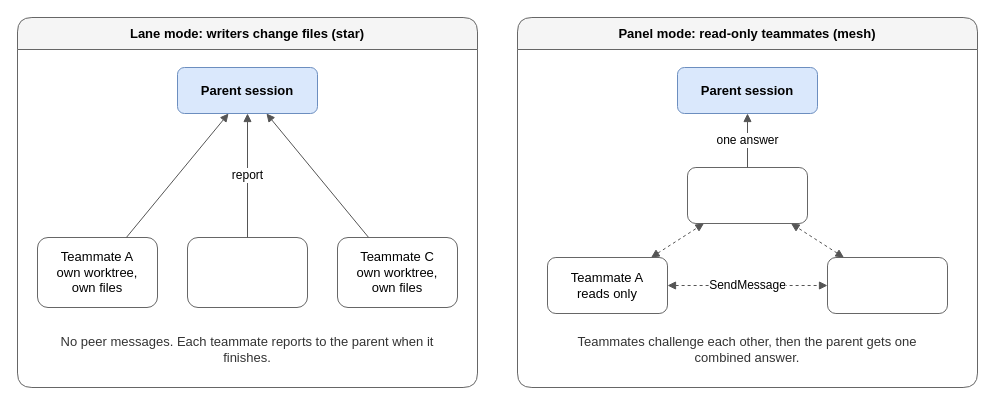
Some shapes in this 995 by 405 pixel diagram are drawn without their labels. Each missing label, with the centre of its shape:
Teammate B own worktree, own files: point 247,272
Teammate B reads only: point 887,285
Teammate C reads only: point 747,195
